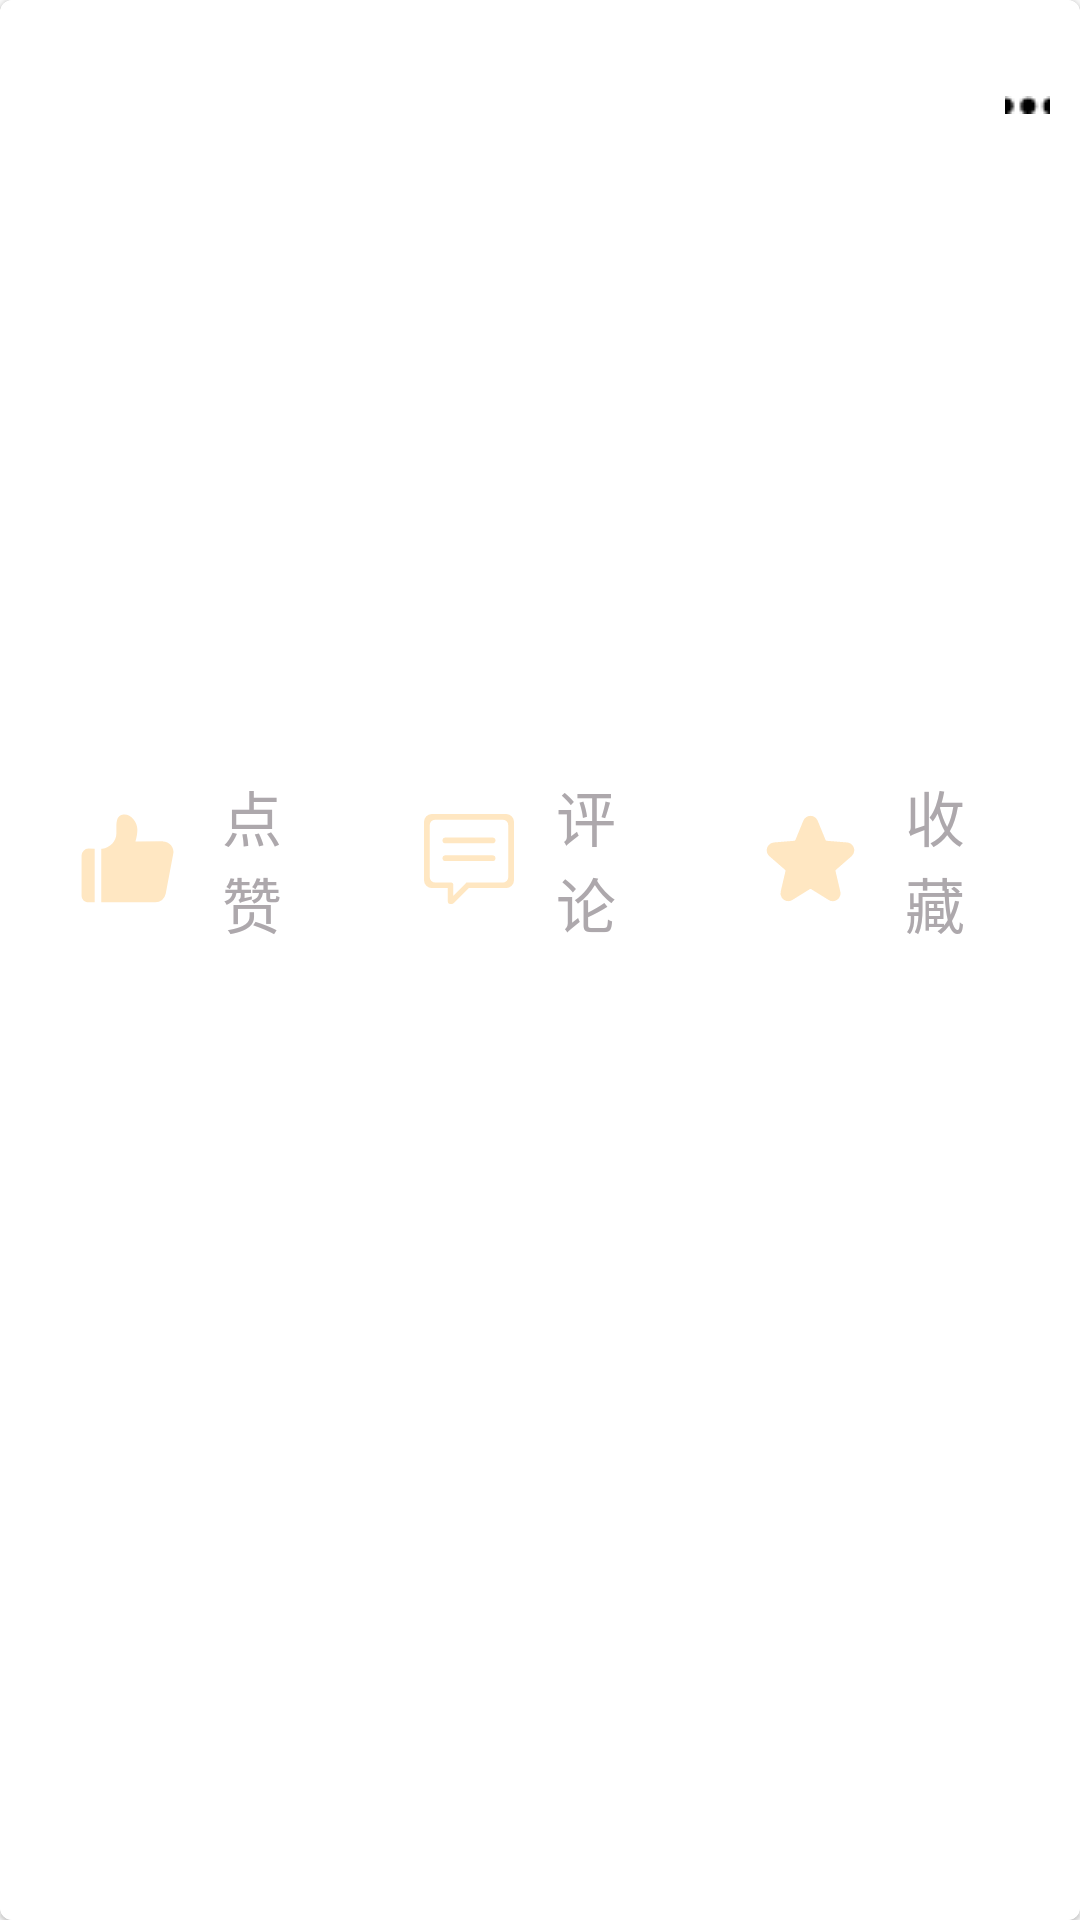

Icons on this 1080px×1920px Android screen, each with the point to tap as point (x, y):
userbox more: point (1027, 105)
